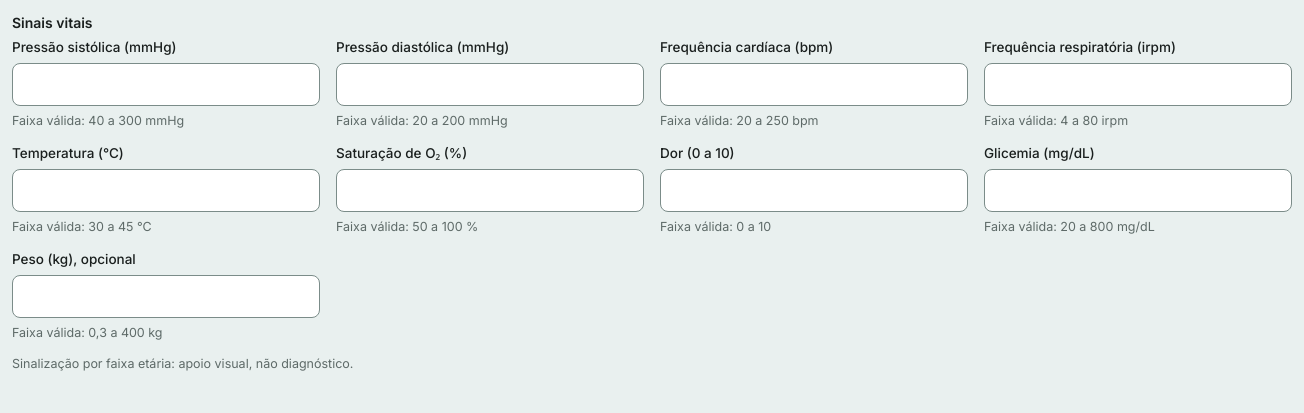
Scenario: CamposSinaisVitais (16.9) › sem idade: usa a faixa de adulto e avisa; texto não numérico é erro
The width and height of the screenshot is (1304, 413).
Type "abc" into the field labelled "Frequência respiratória (irpm)" at (1138, 85), box [984, 63, 1292, 106]
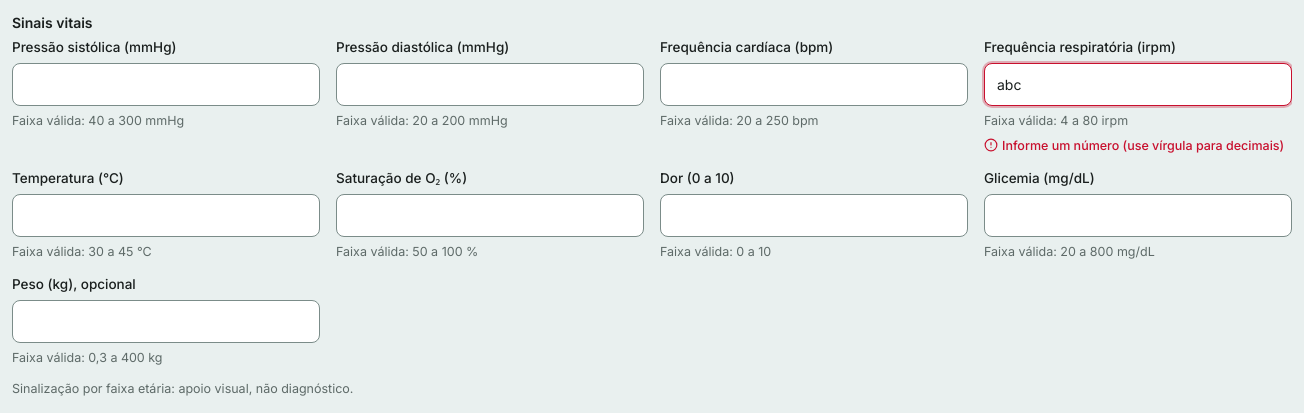
Type "80" into the field labelled "Frequência cardíaca (bpm)" at (814, 85), box [660, 63, 968, 106]
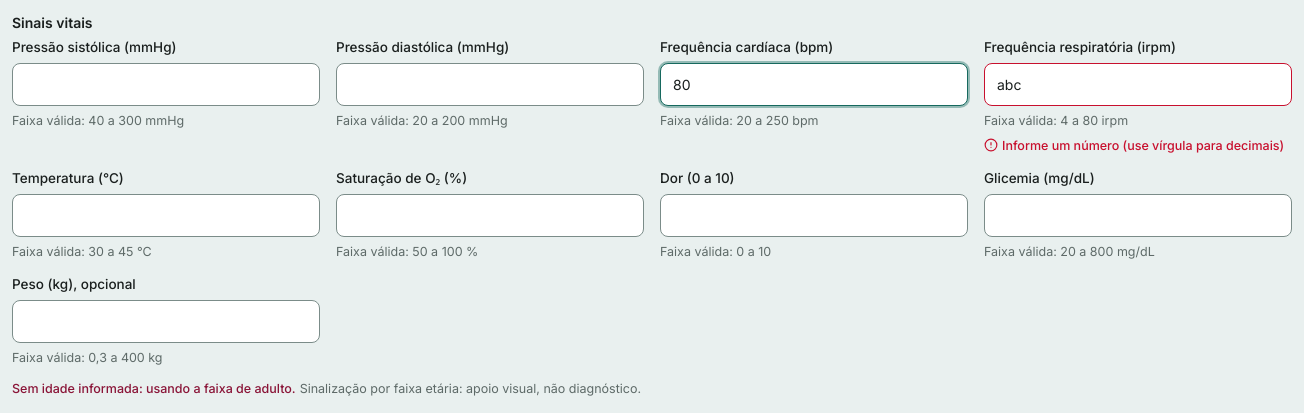
Expected: the text "Sem idade informada: usando a faixa de adulto." is shown, [12, 381, 296, 396]
